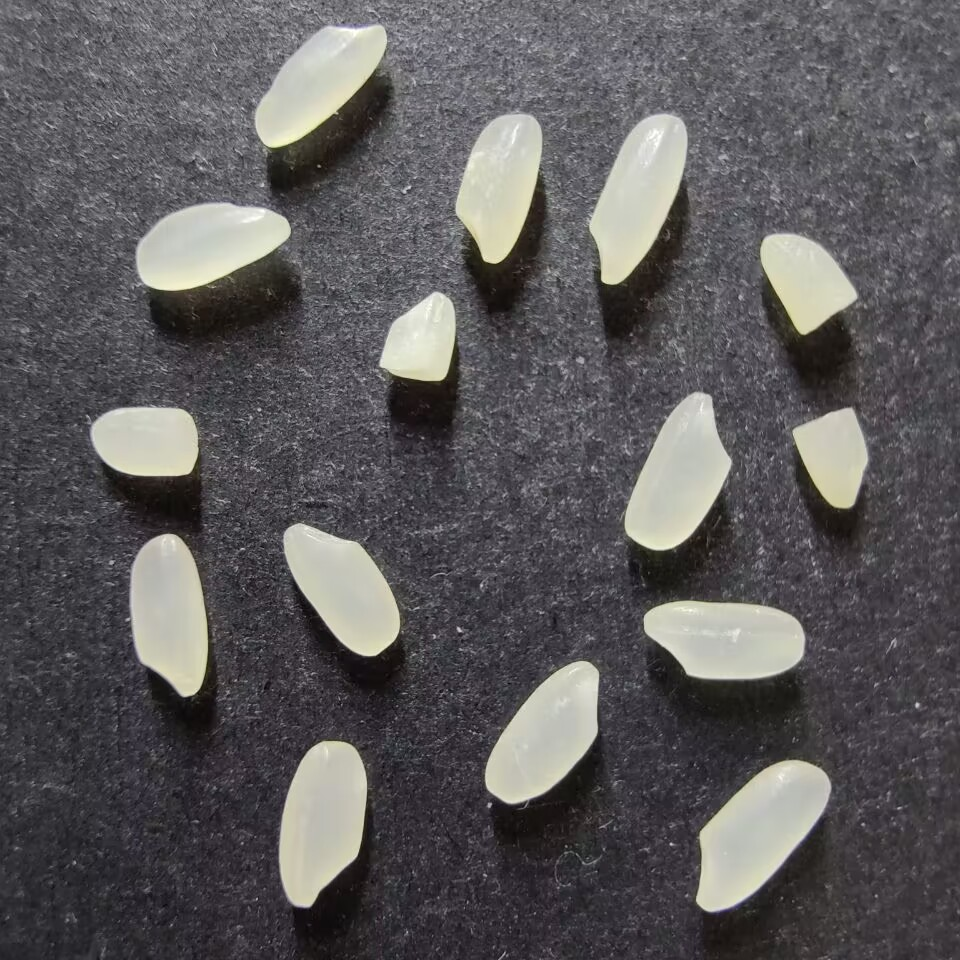broken: (759, 232, 857, 336), (790, 407, 869, 509), (90, 406, 199, 478), (378, 292, 456, 382)
rice: (693, 759, 831, 912), (623, 392, 733, 551), (587, 113, 688, 285), (253, 23, 387, 149), (483, 660, 600, 804), (281, 522, 400, 656), (278, 739, 366, 908), (135, 202, 290, 291), (453, 113, 543, 265), (127, 533, 208, 698), (642, 600, 805, 680)
